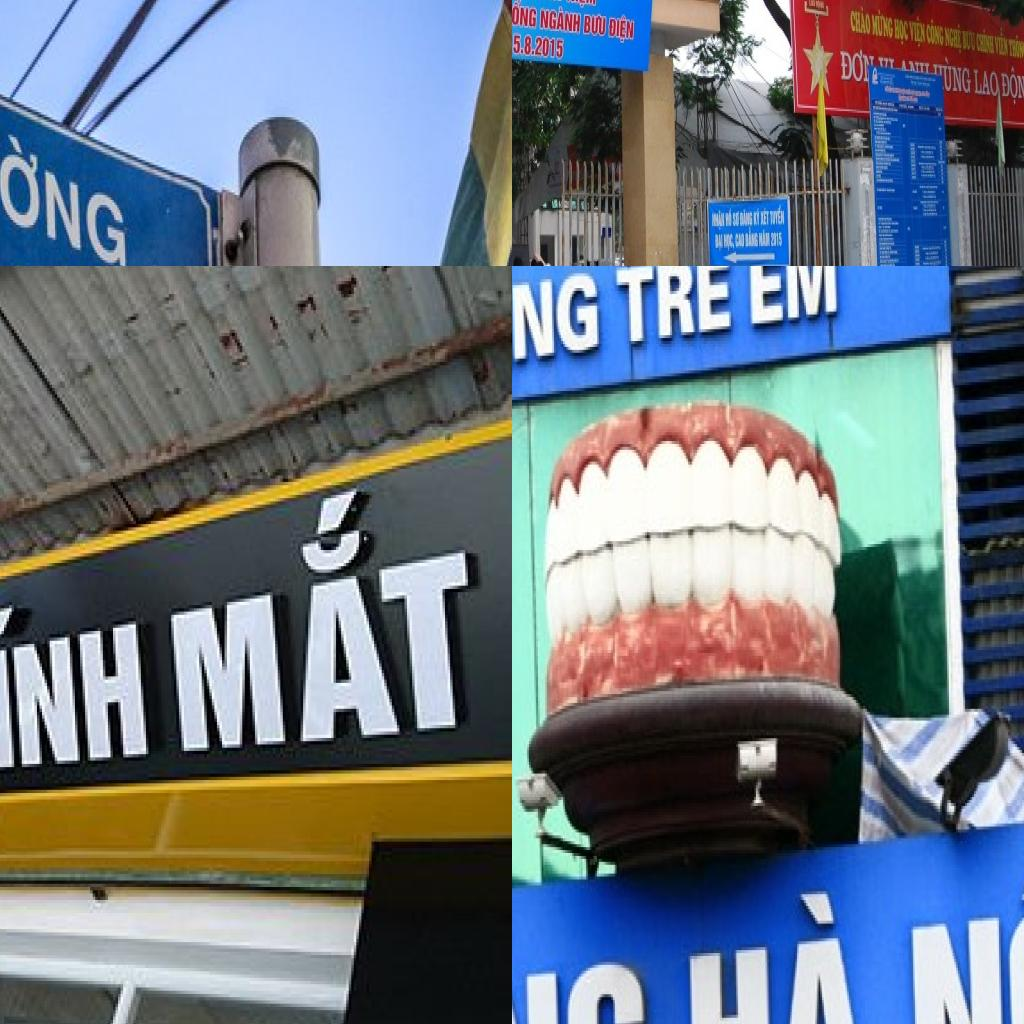text: (0, 550, 161, 799), (686, 882, 875, 1024), (512, 266, 604, 382), (613, 266, 734, 349), (747, 266, 841, 332), (512, 29, 566, 64), (539, 2, 582, 38), (944, 58, 973, 98), (1000, 66, 1024, 111), (837, 46, 865, 84), (973, 66, 1001, 99), (608, 14, 636, 46), (848, 4, 872, 38), (512, 0, 538, 31), (871, 9, 895, 41), (583, 10, 607, 40), (908, 14, 927, 51), (945, 22, 964, 58), (976, 26, 996, 58), (926, 18, 946, 49), (894, 16, 910, 48), (995, 30, 1010, 60), (770, 204, 787, 230), (1009, 34, 1024, 60), (963, 28, 977, 54), (566, 0, 599, 11), (711, 210, 726, 231), (739, 208, 754, 229), (745, 230, 759, 250), (771, 231, 785, 250), (734, 231, 746, 251), (723, 233, 736, 251), (758, 231, 771, 248), (714, 233, 725, 253), (761, 206, 770, 230), (753, 209, 761, 228), (726, 210, 733, 231), (815, 0, 826, 11), (733, 211, 740, 228), (808, 0, 817, 9)
